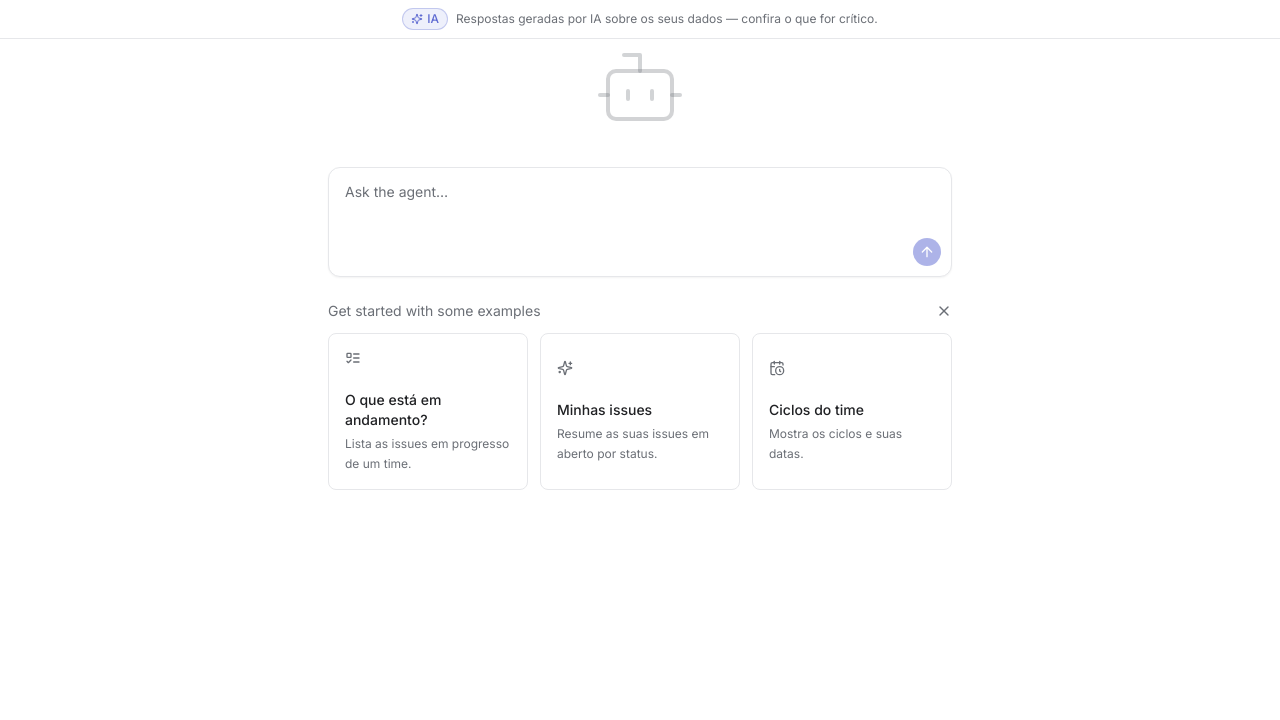
Scenario: agent — falha do provedor (co#12) › falha de rede continua falando de conexão
Type "oi" into the text box with placeholder "Ask the agent…". click: (640, 200)
box: [329,168,951,232]
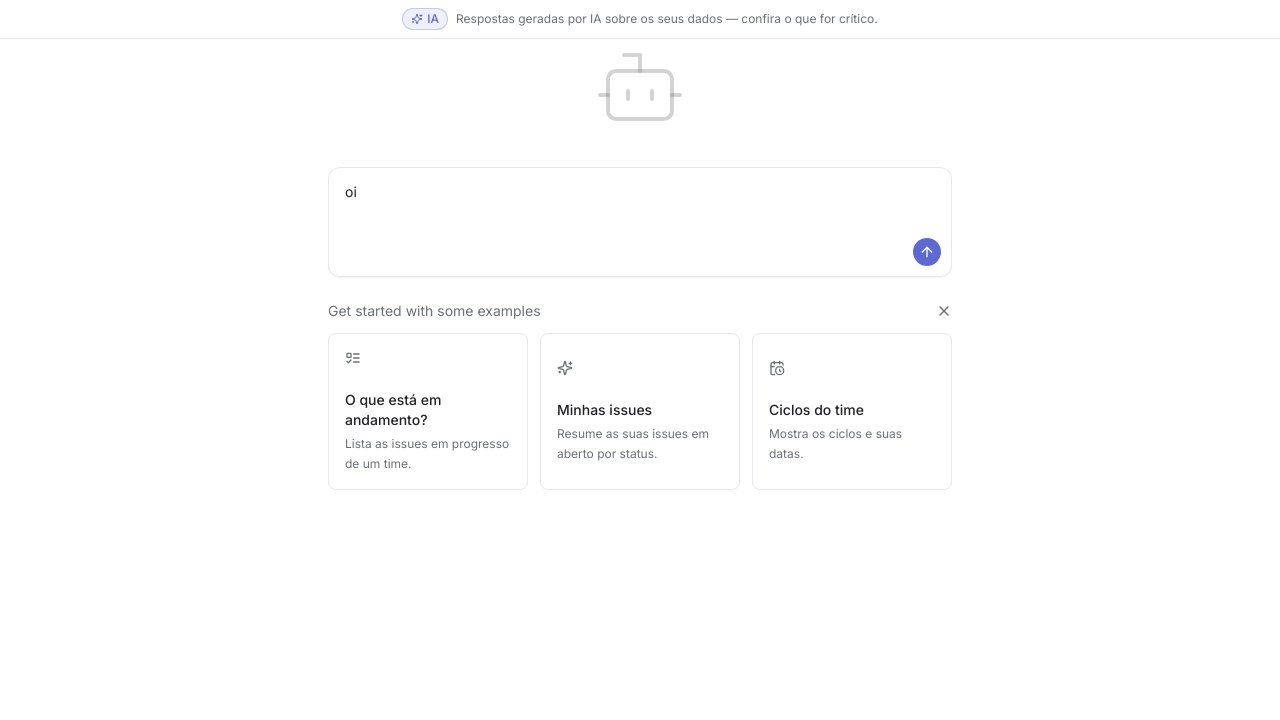
Press Enter in the text box with placeholder ".", box [329,168,951,232]
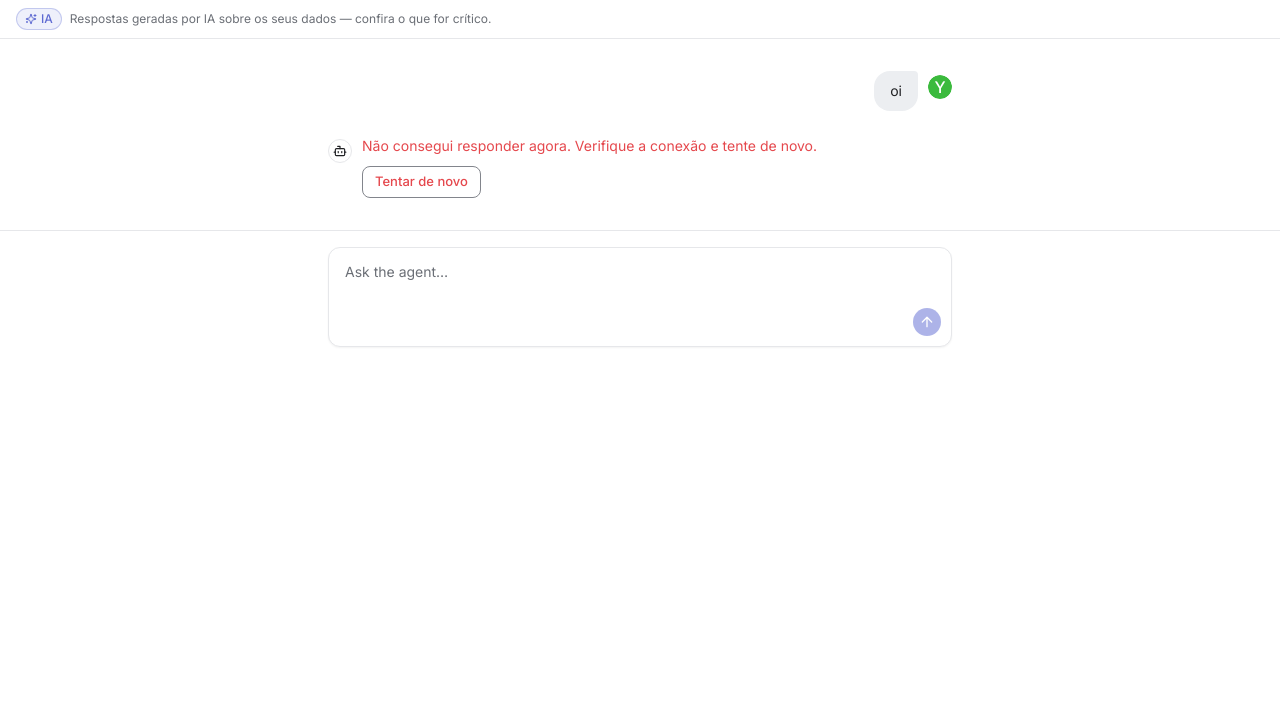
Expected: the text "Verifique a conexão" is shown, [362,137,817,154]
